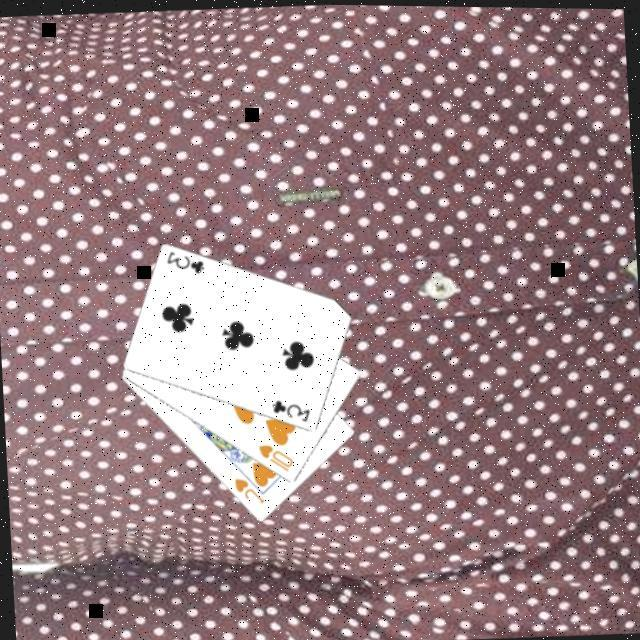10H: (257, 440, 299, 476)
3C: (164, 246, 210, 279), (270, 396, 316, 426)
JH: (232, 474, 270, 508)
